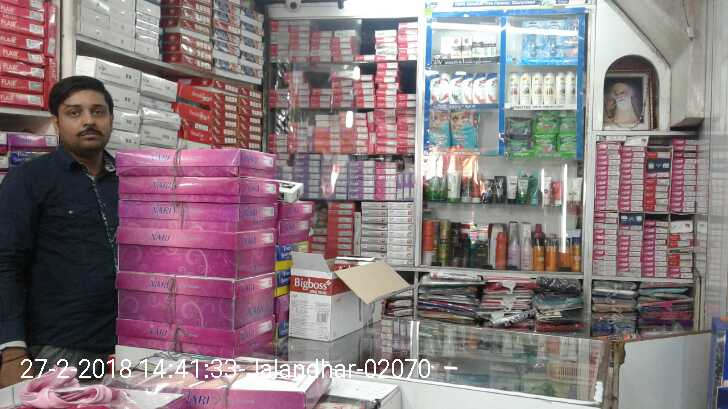venus: (522, 23, 543, 58), (543, 23, 561, 58), (562, 21, 578, 56)
